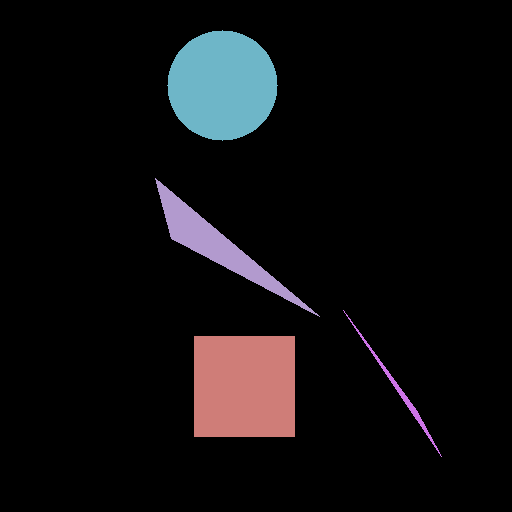circle: (167, 30, 277, 140)
square: (194, 336, 294, 436)
triangle: (155, 178, 319, 316)
